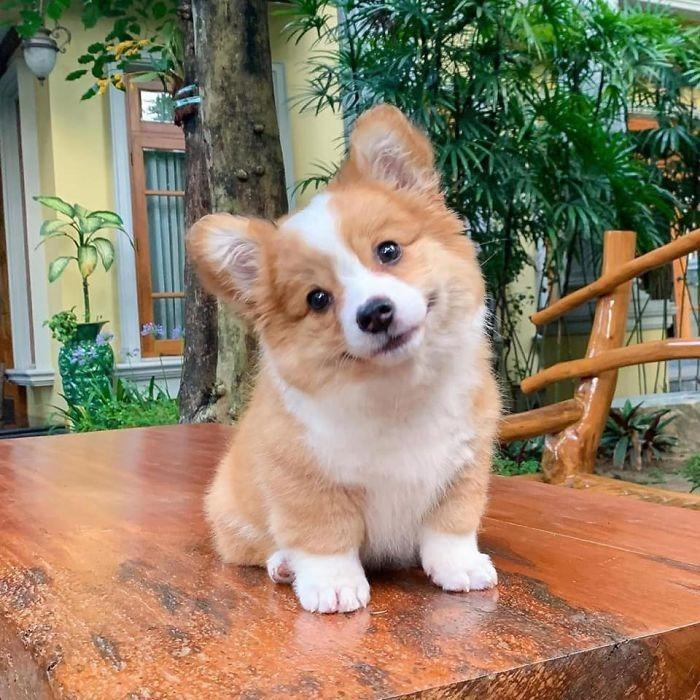puppy-dog: (185, 101, 501, 614)
